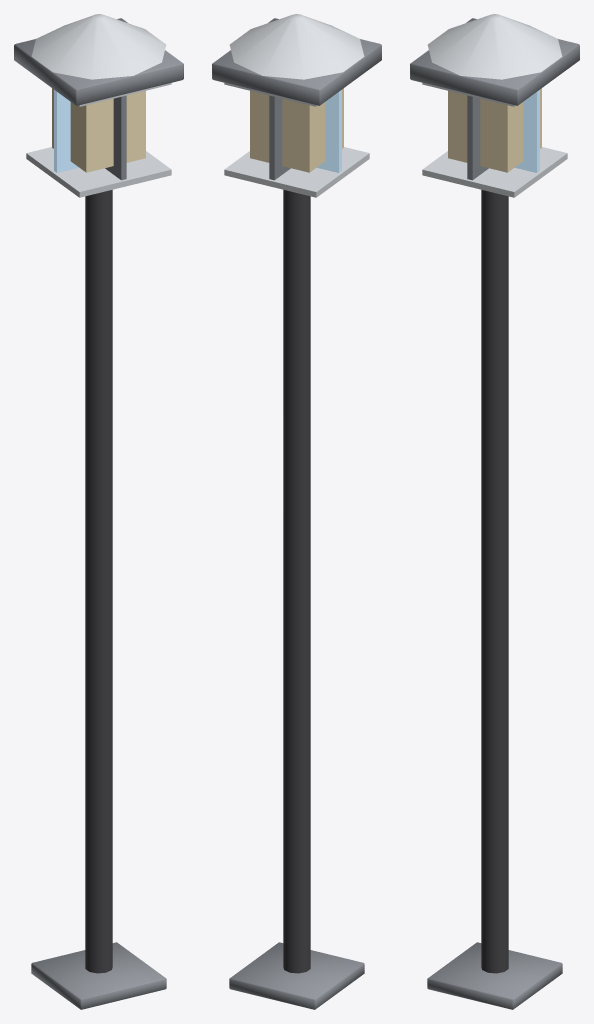
File: ParkLamp.fbx
3 views of the same model, side by side, from view 1: azimuth 30°, elevation 25°; view 2: azimuth 150°, elevation 25°; view 3: azimuth 330°, elevation 25° (orthographic).
Visible parts, largest first — view 1: LOD0; view 2: LOD0; view 3: LOD0.
Boxes of the visible parts, left/top/right/bottom form: LOD0: left=14, top=14, right=183, bottom=1009; LOD0: left=212, top=14, right=381, bottom=1009; LOD0: left=410, top=14, right=579, bottom=1009.
Size of what is drawn, in the model's own units: 41.85 by 340 by 44.
